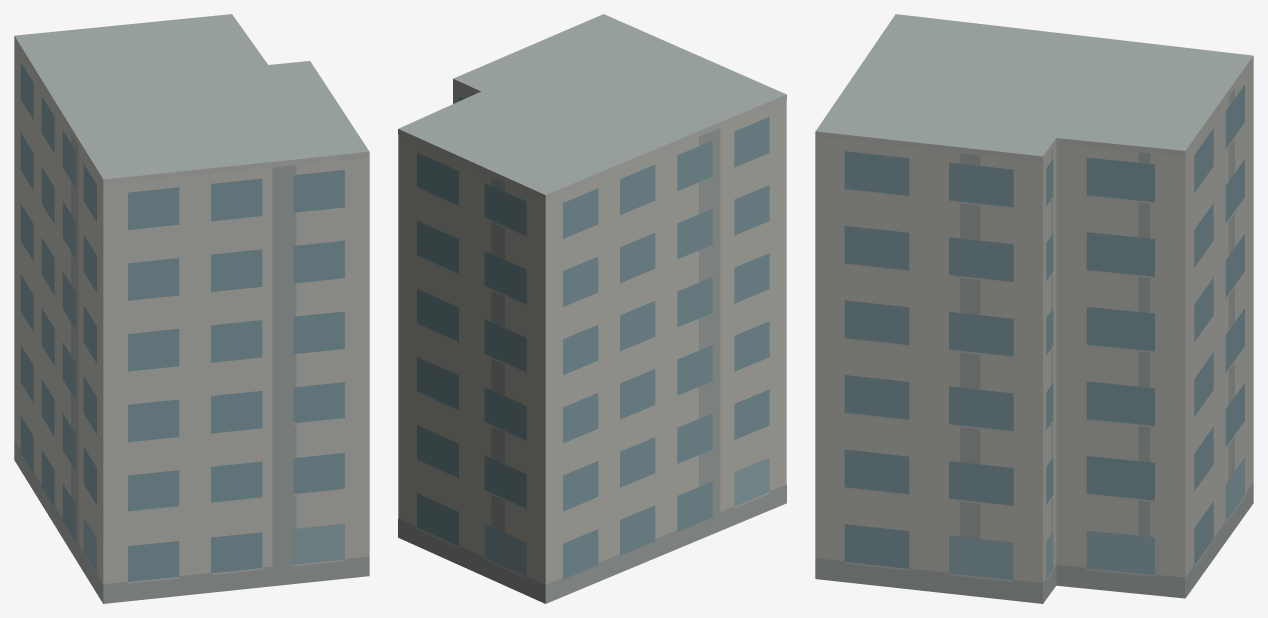
The model's file is survey-upis-32763004.glb.
3 renders of one model, left to right at view 1: azimuth 30°, elevation 25°; view 2: azimuth 150°, elevation 25°; view 3: azimuth 270°, elevation 25°, orthographic. The views are drawn at different scales.
Visible parts, largest first — view 1: survey-upis-32763004.tmp; view 2: survey-upis-32763004.tmp; view 3: survey-upis-32763004.tmp.
Part boxes in pixels (x1,y1,x2,y2): survey-upis-32763004.tmp: (14, 14, 369, 603); survey-upis-32763004.tmp: (398, 14, 786, 603); survey-upis-32763004.tmp: (815, 14, 1253, 603).
Size of the model in its own units: 12.22 by 17.9 by 15.89.
